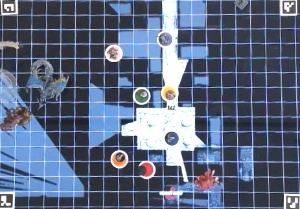blue: (162, 129, 184, 148)
green: (134, 85, 153, 106)
orange: (110, 149, 131, 169)
pink: (104, 43, 124, 63)
red: (135, 158, 157, 179)
violet: (154, 30, 174, 50)
yellow: (160, 83, 180, 102)
